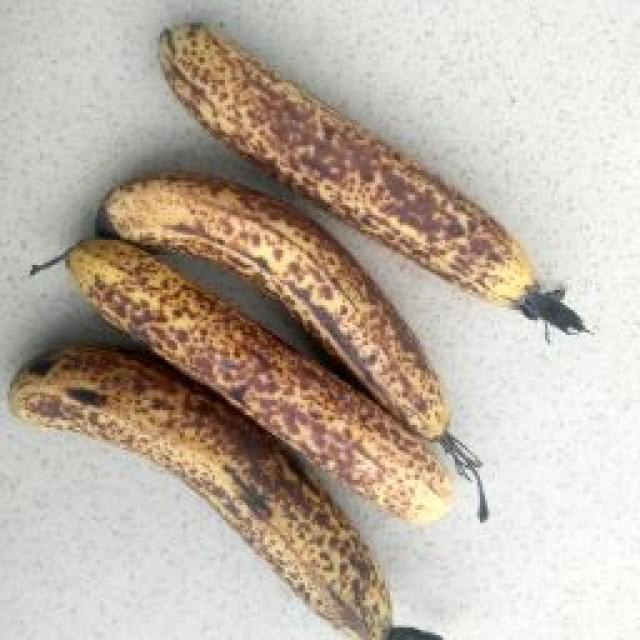banana: (74, 95, 640, 613)
